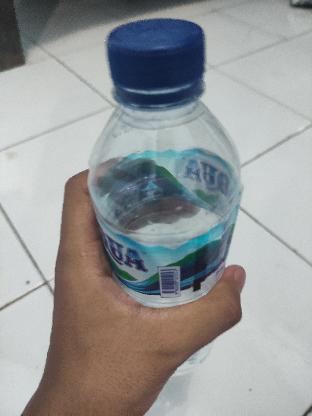Plastic Bottle: (78, 16, 252, 384)
